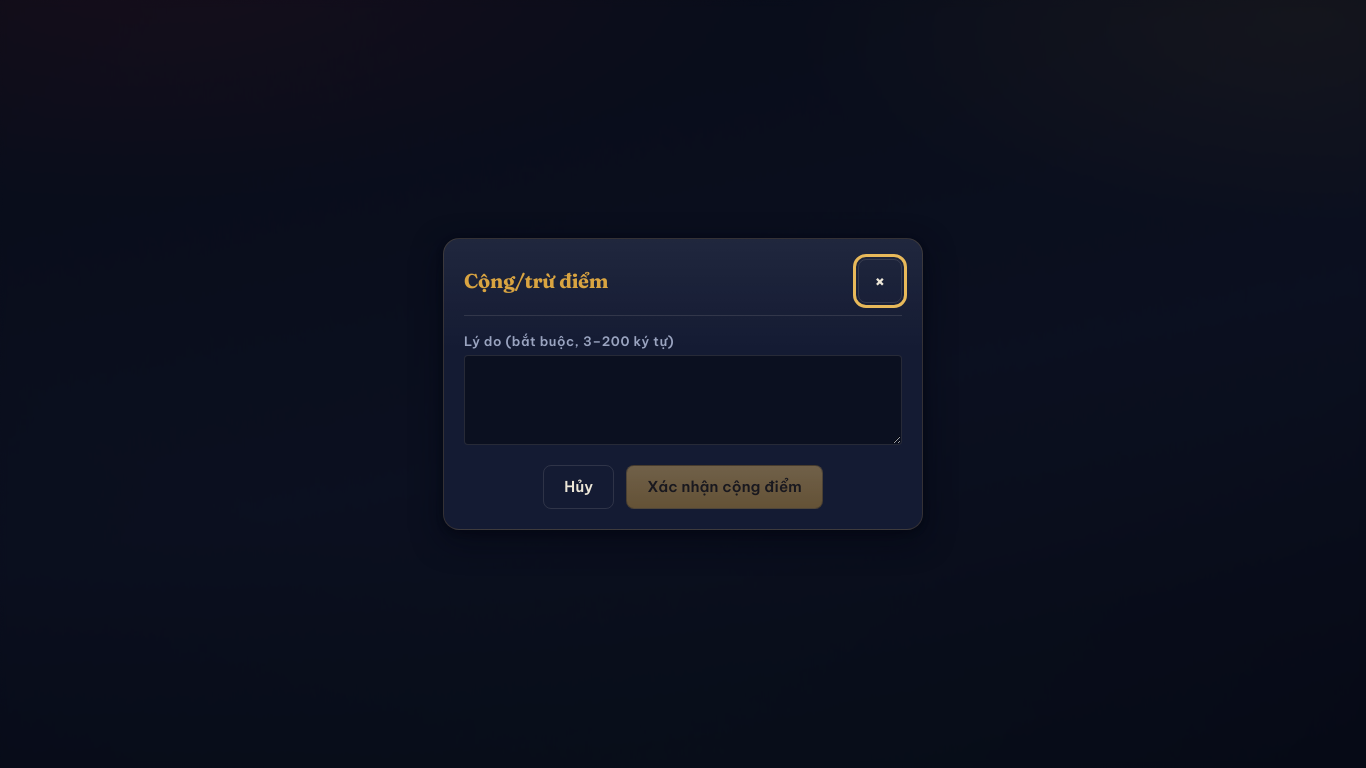
it: ReasonDialog › names the two refusals only the role action can earn
Type "khóa" into the text box labelled "Lý do (bắt buộc, 3–200 ký tự)" at (683, 400), box [464,355,902,445]
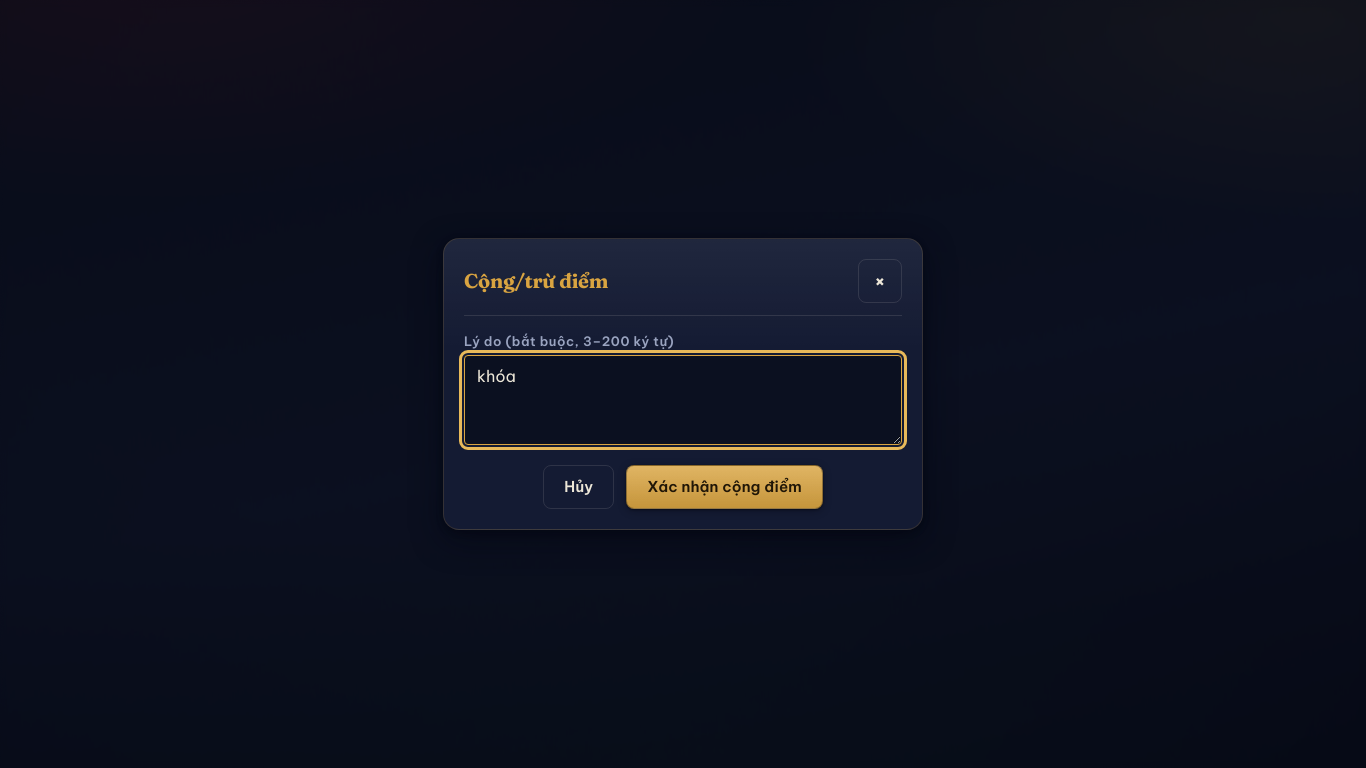
Click the button "Xác nhận cộng điểm" at (725, 487), box [626,465,823,509]
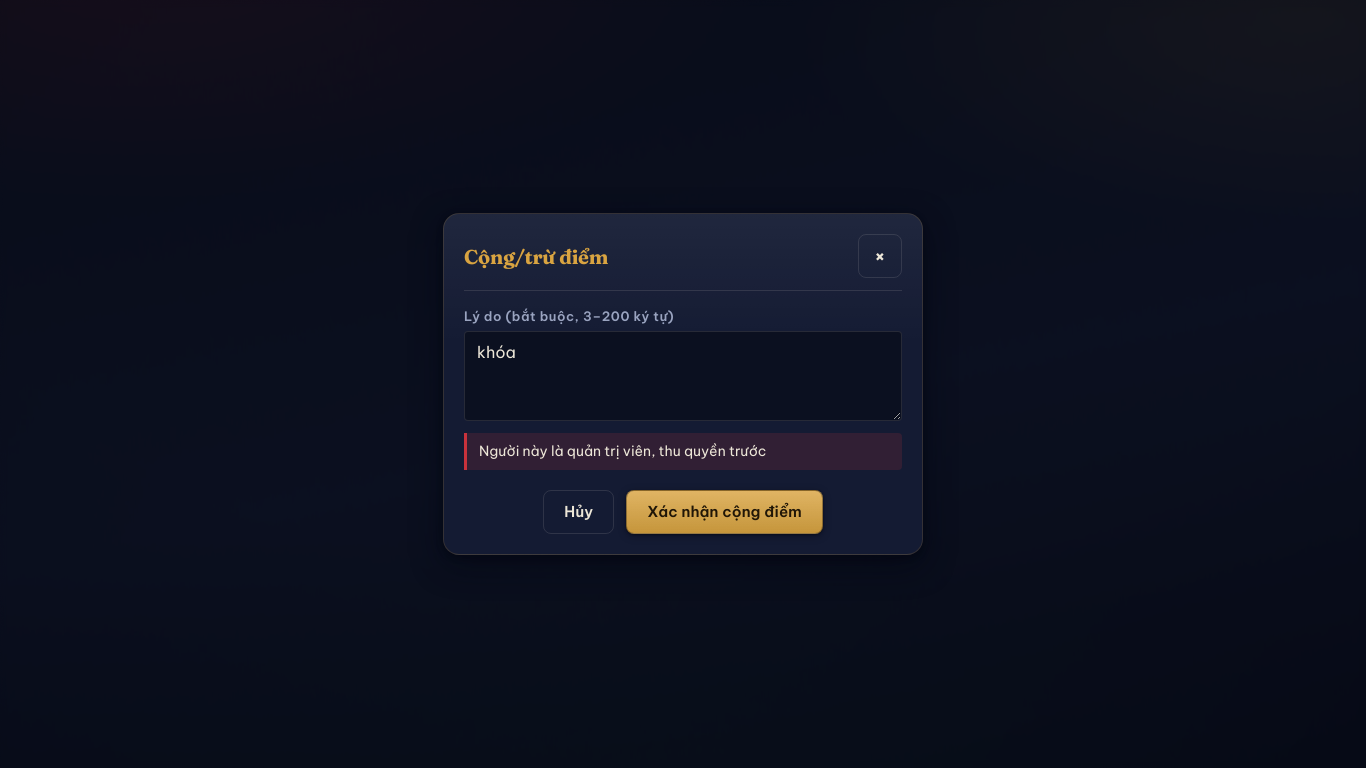
Check: the message reads "Người này là quản trị viên, thu quyền trước", box [479,442,766,460]
